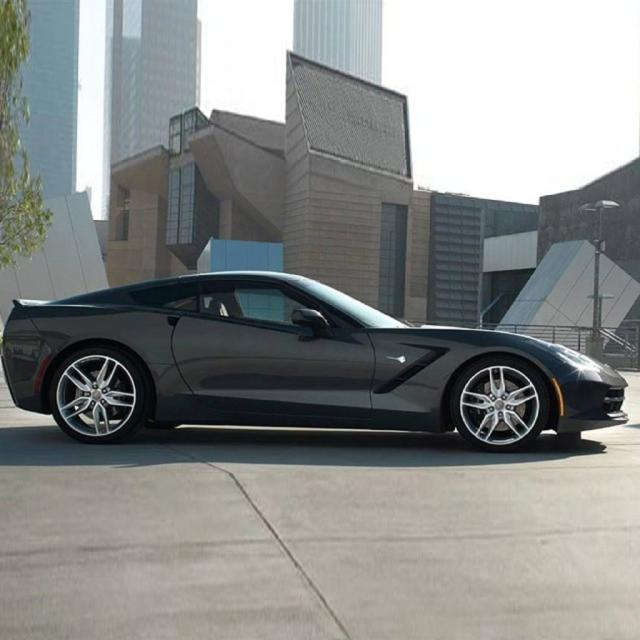car: (0, 268, 630, 456)
